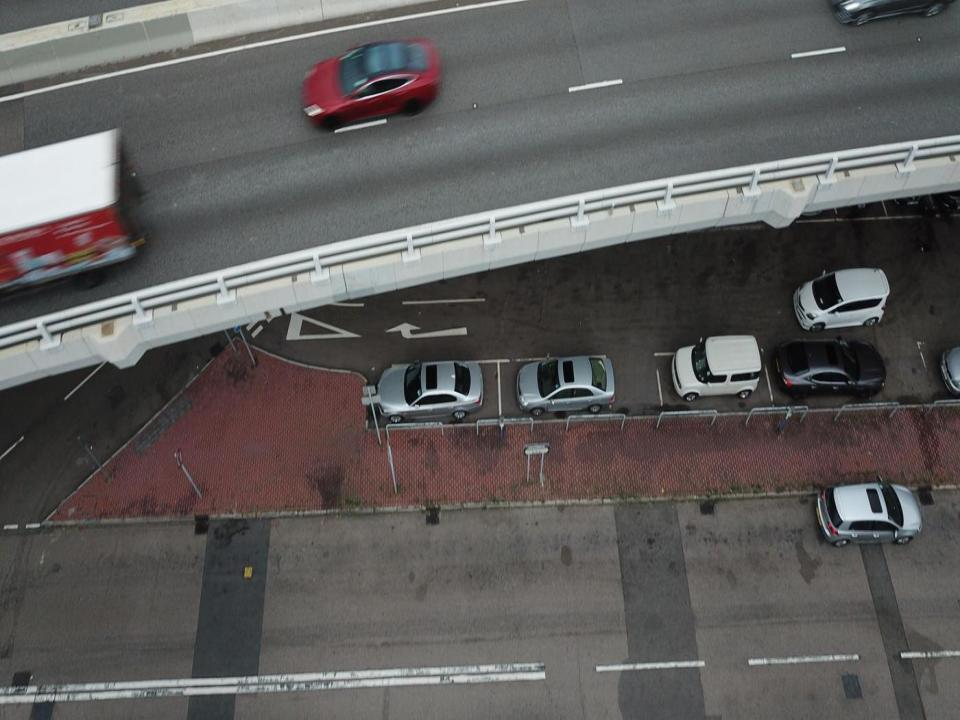car: (301, 39, 441, 132), (816, 475, 924, 550), (374, 356, 490, 425), (772, 330, 886, 397), (790, 260, 892, 331), (512, 348, 615, 418), (670, 333, 762, 404)
truck: (0, 124, 148, 299)
